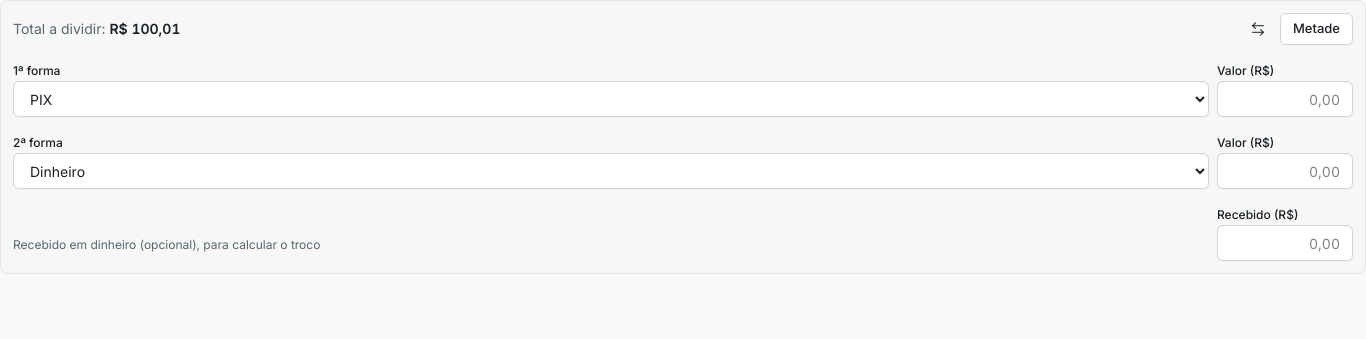
PagamentoDividido › "Metade" divide o total ao meio, com o centavo ímpar na 1ª parte
Click the button "Metade": (1316, 29) x1=1280 y1=13 x2=1353 y2=45
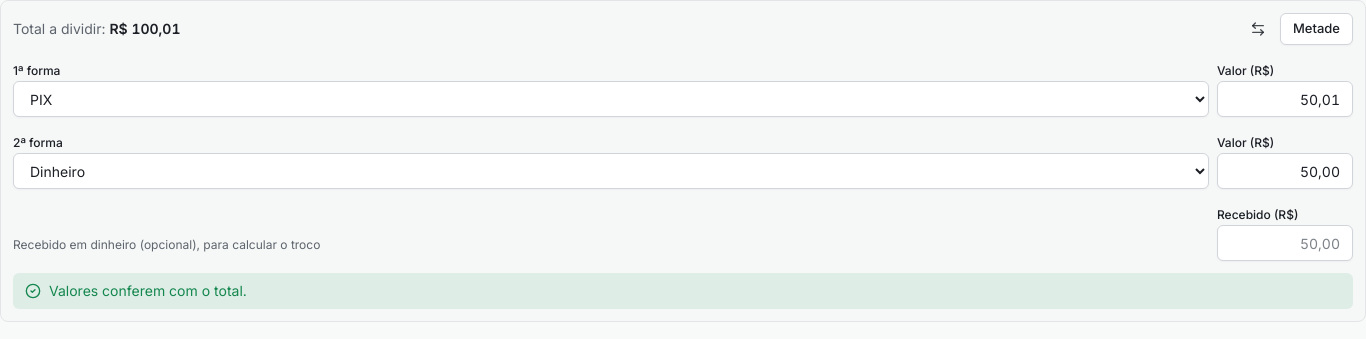
Now the field with id "divisao-valor-1" holds "50,01", box x1=1217 y1=81 x2=1353 y2=117
Now the field with id "divisao-valor-2" holds "50,00", box x1=1217 y1=153 x2=1353 y2=189
